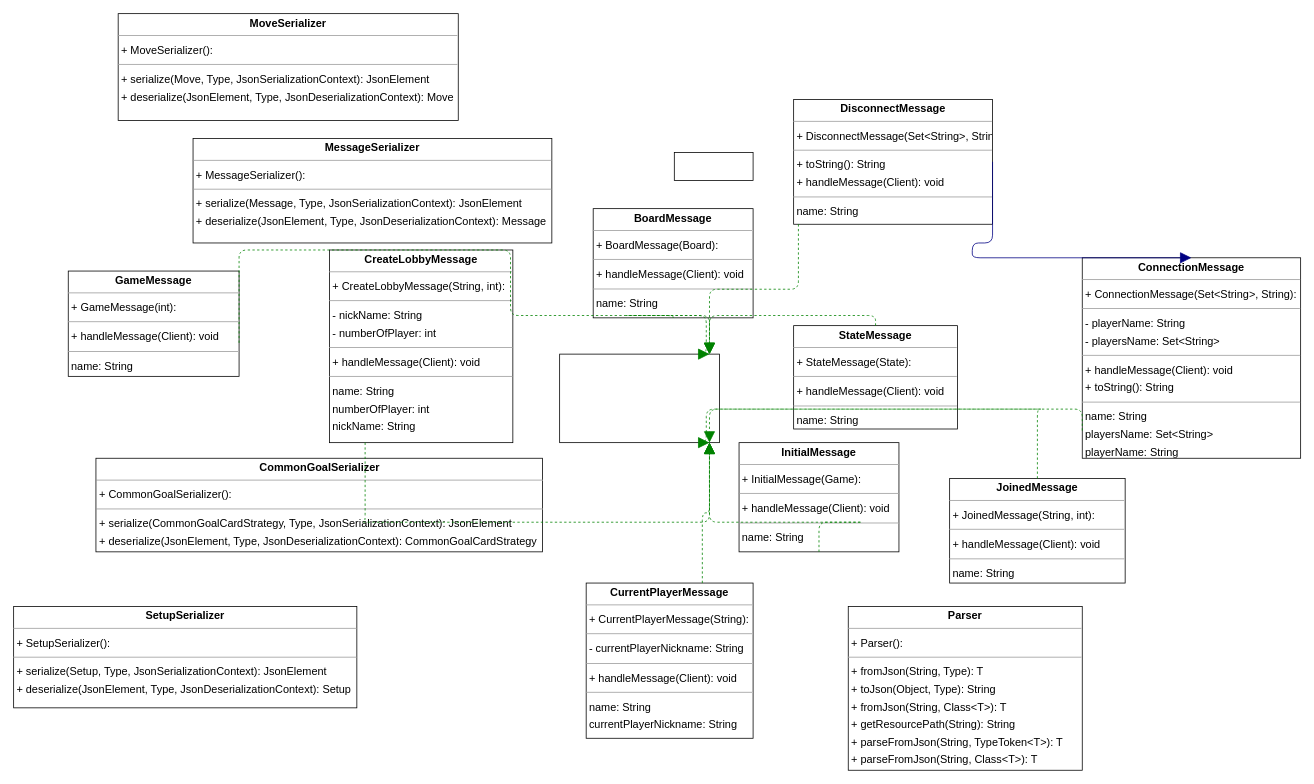
Some shapes in this 1314 by 784 pixel diagram are drawn without their labels. Here are the shapes that lost their labels. From the top down, the centre of each, then its label:
At [713,166]: "<<annotation>> Exclude".
At [639,398]: "<<interface>> Message + handleMessage(Client): void name: String".
